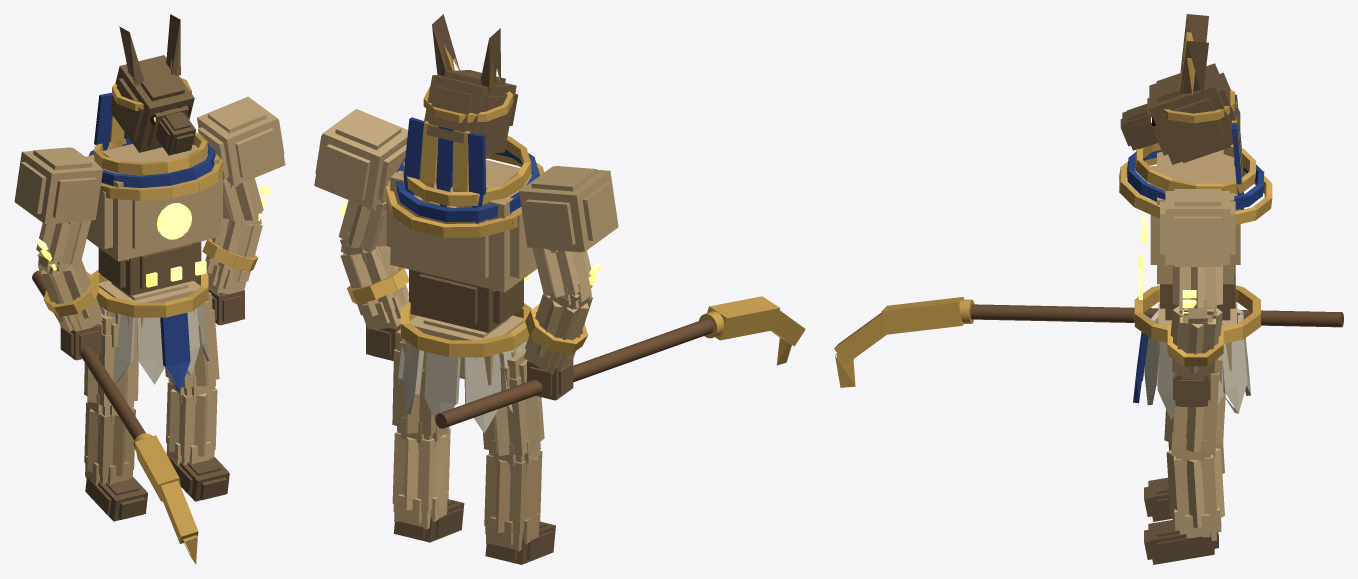
3 renders of one model, left to right at view 1: azimuth 30°, elevation 25°; view 2: azimuth 150°, elevation 25°; view 3: azimuth 270°, elevation 25°, orthographic. The views are drawn at different scales.
Visible parts, largest first — view 1: TempleSentinel; view 2: TempleSentinel; view 3: TempleSentinel.
Part boxes in pixels (x1,y1,x2,y2): TempleSentinel: [14, 14, 285, 564]; TempleSentinel: [314, 14, 805, 564]; TempleSentinel: [834, 14, 1343, 564].
Size of the model in its own units: 0.8888 by 1.54 by 1.4.
